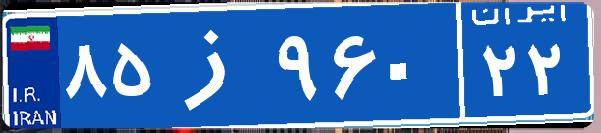0: (385, 28, 445, 110)
2: (475, 38, 525, 113), (525, 38, 570, 115)
5: (110, 28, 158, 105)
6: (330, 28, 385, 110)
8: (57, 26, 110, 107)
9: (273, 28, 330, 110)
ز: (158, 15, 273, 115)
